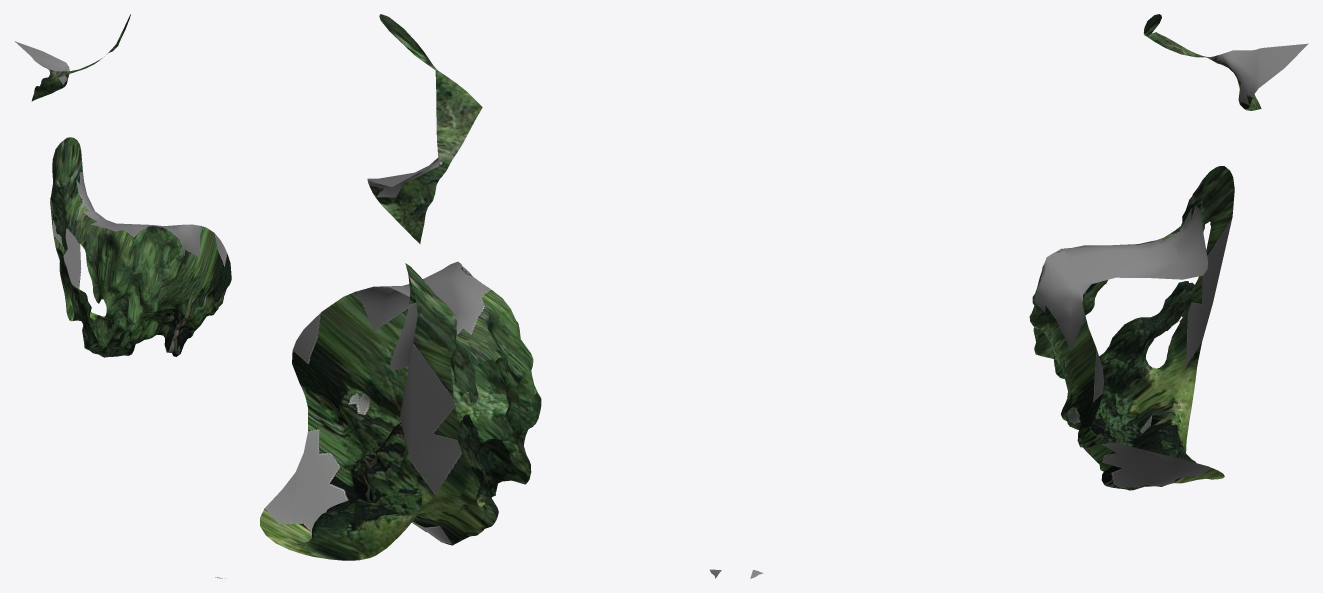
File: Tile_+021_+023.fbx
3 renders of one model, left to right at view 1: azimuth 30°, elevation 25°; view 2: azimuth 150°, elevation 25°; view 3: azimuth 270°, elevation 25°, orthographic. The views are drawn at different scales.
Parts seen in each view (by area): view 1: DefaultName; view 2: DefaultName; view 3: DefaultName.
Part boxes in pixels (x1=…): DefaultName: x1=14, y1=14, x2=231, y2=578; DefaultName: x1=260, y1=14, x2=721, y2=578; DefaultName: x1=750, y1=14, x2=1308, y2=578.
Size of the model in its own units: 6.89 by 20.87 by 17.6.
